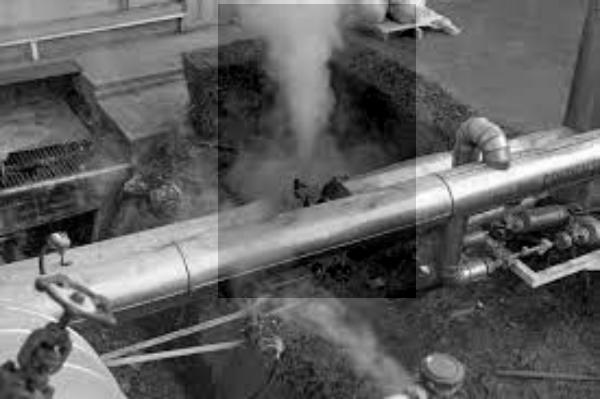gas: (218, 4, 416, 298)
